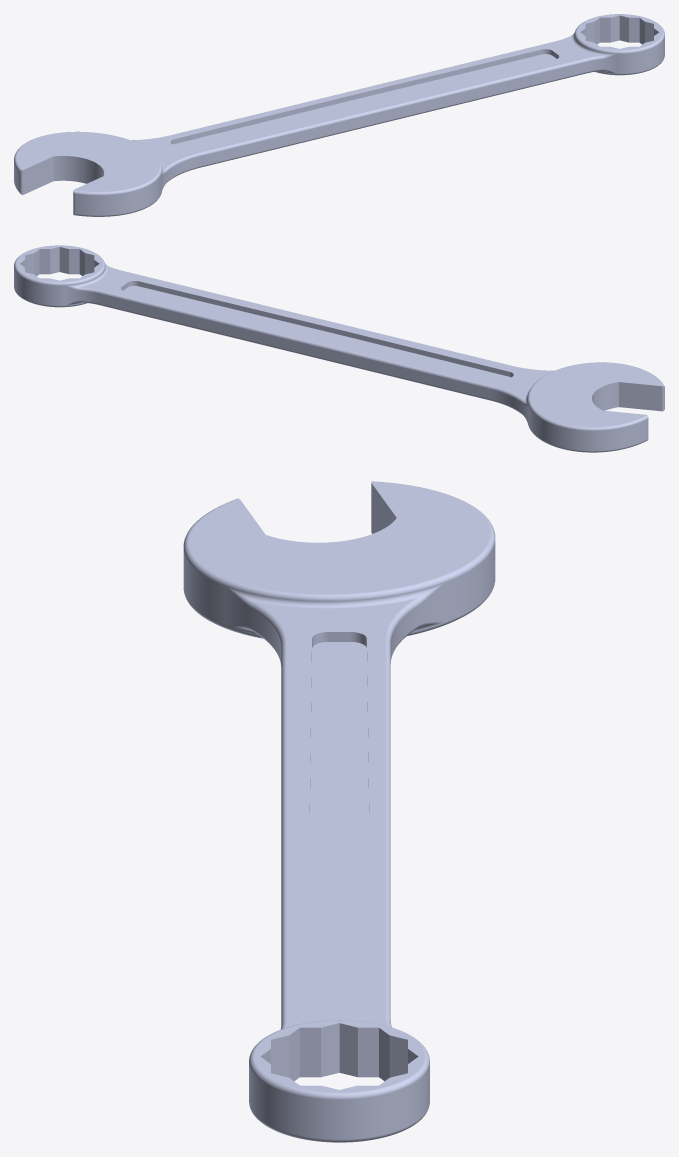
File: wrench.fbx
The picture shows the model from 3 angles, top to bottom: view 1: azimuth 30°, elevation 25°; view 2: azimuth 150°, elevation 25°; view 3: azimuth 270°, elevation 25°; orthographic projection. The views are drawn at different scales.
Visible parts, largest first — view 1: Llave de tuercas; view 2: Llave de tuercas; view 3: Llave de tuercas.
Boxes of the visible parts, <box> form: Llave de tuercas: <box>14,14,664,216</box>; Llave de tuercas: <box>14,245,664,452</box>; Llave de tuercas: <box>183,481,495,1142</box>.
Size of the model in its own units: 265 by 10 by 56.91.
